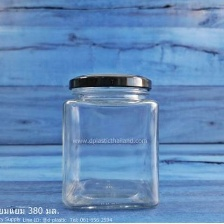glass: (55, 70, 169, 215)
